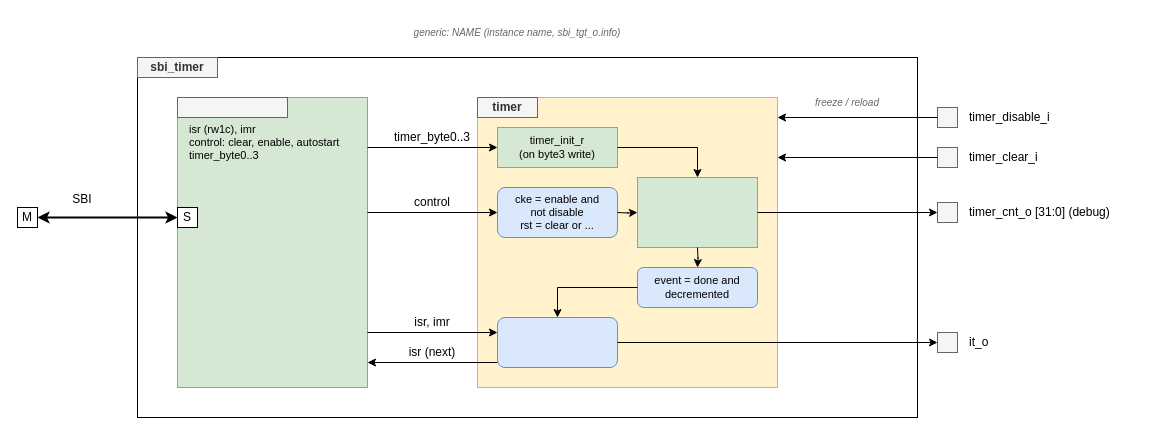
Some shapes in this 1155 by 435 pixel diagram are drawn without their labels. The shapes that lost their labels are listed below. From the top down, each one's centre as x and y in pixels, then its label:
the point at 232,107: timer_registers
the point at 697,212: timer_cnt_r 32-bit down counter (stops at 0)
the point at 557,342: GIC_core isr = event or isr it = isr and imr
